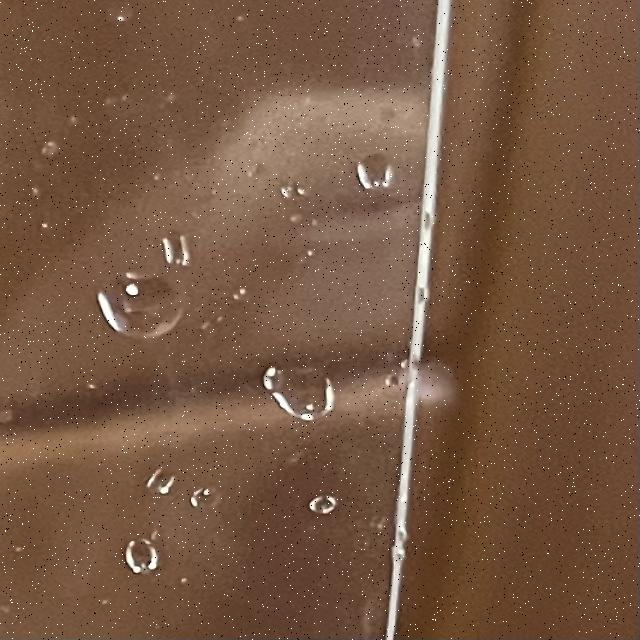raindrop: (86, 263, 197, 352), (251, 352, 345, 426), (106, 528, 184, 586), (353, 142, 429, 196), (144, 210, 208, 267), (279, 486, 333, 528), (136, 457, 188, 498), (271, 162, 318, 206), (220, 278, 272, 311), (190, 487, 233, 523), (98, 1, 142, 34), (28, 128, 70, 156), (374, 365, 406, 393)
